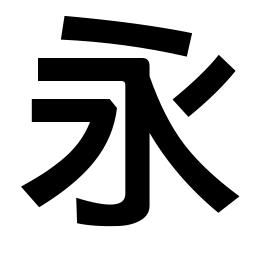D: (57, 13, 193, 46)
HSZ: (118, 55, 155, 91)
Hs: (36, 54, 89, 83)
Ne: (200, 182, 243, 215)
PNc: (151, 96, 195, 132)
PZe: (19, 178, 53, 209)
Ps: (208, 53, 238, 86)
SG: (71, 189, 153, 228)
Sm: (122, 138, 151, 167)
TPZ: (80, 97, 118, 141)
Ts: (28, 96, 60, 126)
